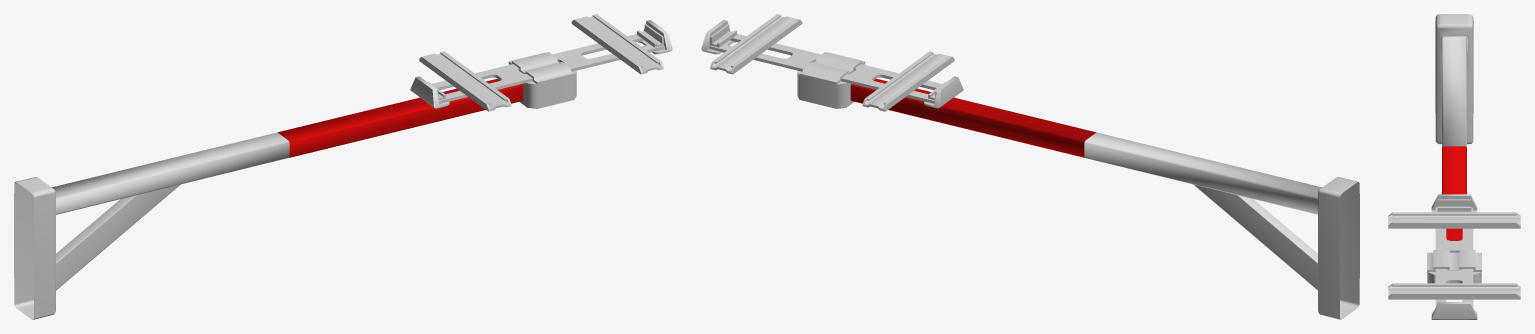
The model's file is WallConveyor-2.fbx.
3 renders of one model, left to right at view 1: azimuth 30°, elevation 25°; view 2: azimuth 150°, elevation 25°; view 3: azimuth 270°, elevation 25°, orthographic. The views are drawn at different scales.
Visible parts, largest first — view 1: SM_CPWall-2_Pole, SM_CPWall-2, SM_CPWall-2_Strut_base, SM_CPWall-2_Strut_long; view 2: SM_CPWall-2_Pole, SM_CPWall-2, SM_CPWall-2_Strut_base, SM_CPWall-2_Strut_long; view 3: SM_CPWall-2_Pole, SM_CPWall-2_Strut_base, SM_CPWall-2, SM_CPWall-2_Strut_long.
Part boxes in pixels (x1,y1,x2,y2): SM_CPWall-2_Pole: (410,14,672,111); SM_CPWall-2: (14,177,180,319); SM_CPWall-2_Strut_base: (52,132,289,214); SM_CPWall-2_Strut_long: (278,78,523,157); SM_CPWall-2_Pole: (701,14,963,111); SM_CPWall-2: (1193,177,1359,319); SM_CPWall-2_Strut_base: (1084,132,1321,214); SM_CPWall-2_Strut_long: (850,78,1095,157); SM_CPWall-2_Pole: (1388,194,1520,319); SM_CPWall-2_Strut_base: (1442,37,1466,147); SM_CPWall-2: (1435,14,1473,144); SM_CPWall-2_Strut_long: (1442,146,1466,240).
Size of the model in its own units: 477 by 95.2 by 89.92.
